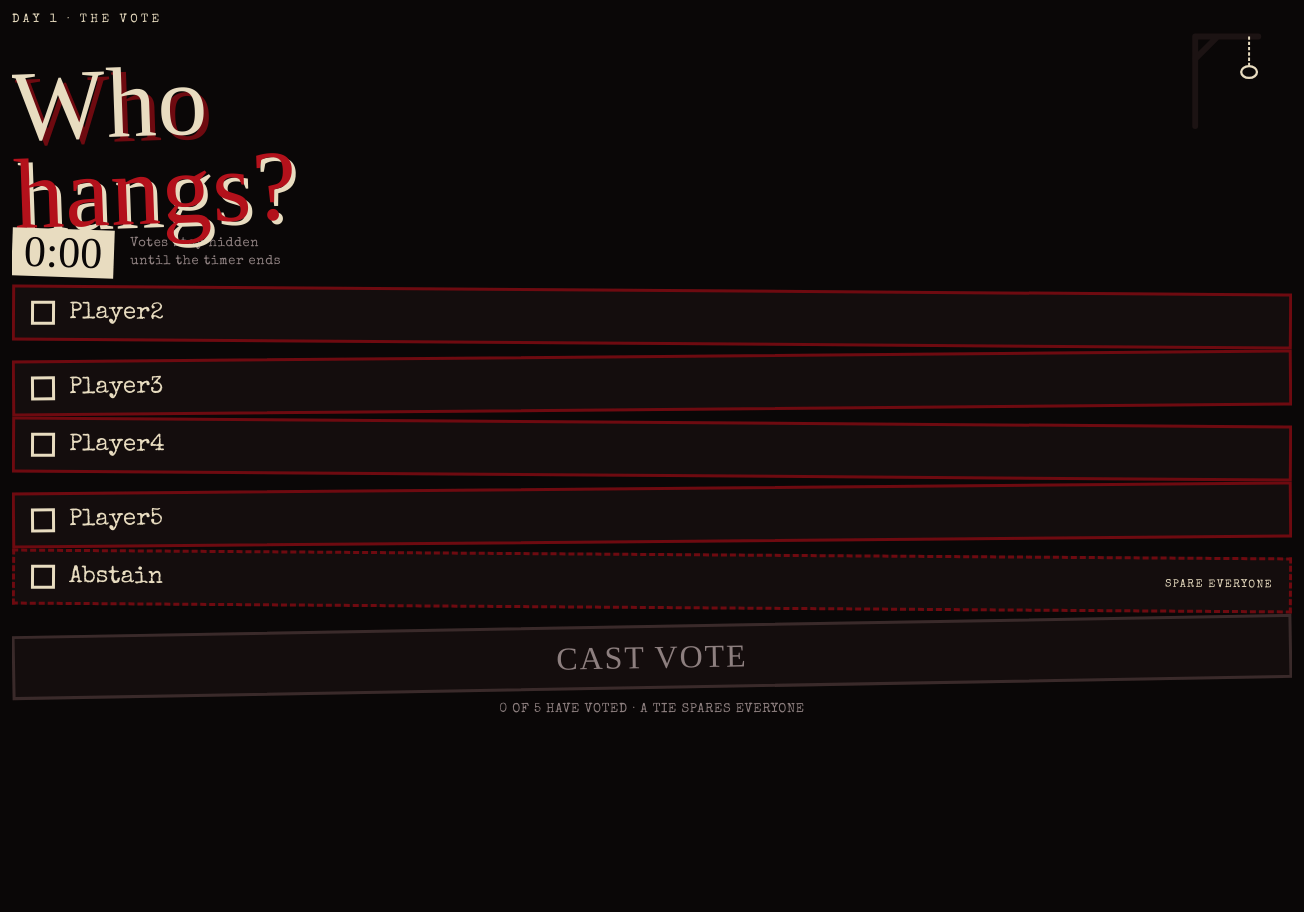
Scenario: VoteScreen › keeps CAST VOTE disabled until something is chosen, then sends the vote
Later steps or results of the test are not shown.
Expected: the button "CAST VOTE" is disabled, [12,614,1292,700]
Click the radio button labelled "Player2".
click(116, 313)  # box [12,285,1292,350]
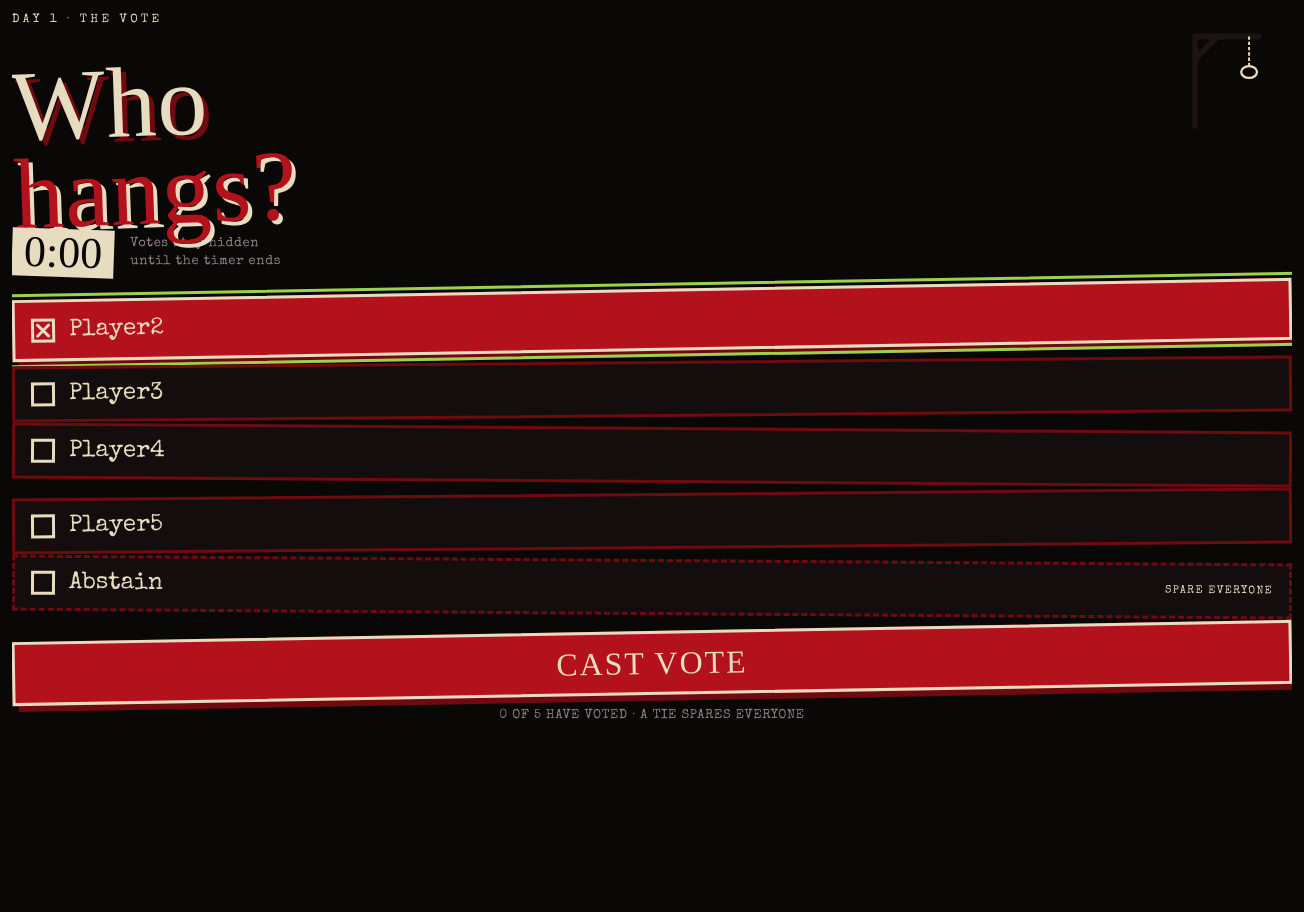
Expected: the button "CAST VOTE" is enabled, [12,620,1292,706]
